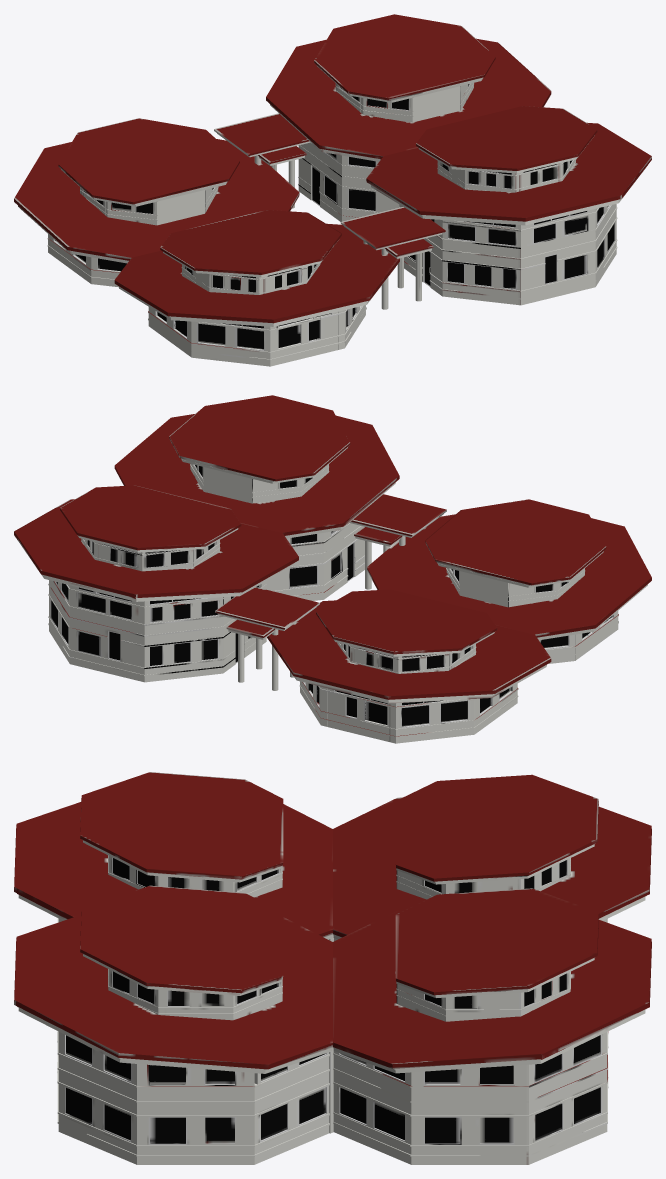
The model's file is TLH_2024_10_28_2_Comp_Baked.fbx.
3 views of the same model, one above another, from view 1: azimuth 30°, elevation 25°; view 2: azimuth 150°, elevation 25°; view 3: azimuth 270°, elevation 25° (orthographic). The views are drawn at different scales.
Parts seen in each view (by area): view 1: Circle.007; view 2: Circle.007; view 3: Circle.007.
Part boxes in pixels (x1,y1,x2,y2): Circle.007: (14, 14, 651, 366); Circle.007: (14, 395, 651, 743); Circle.007: (14, 772, 651, 1164).
Size of the model in its own units: 3717 by 950 by 3115.
